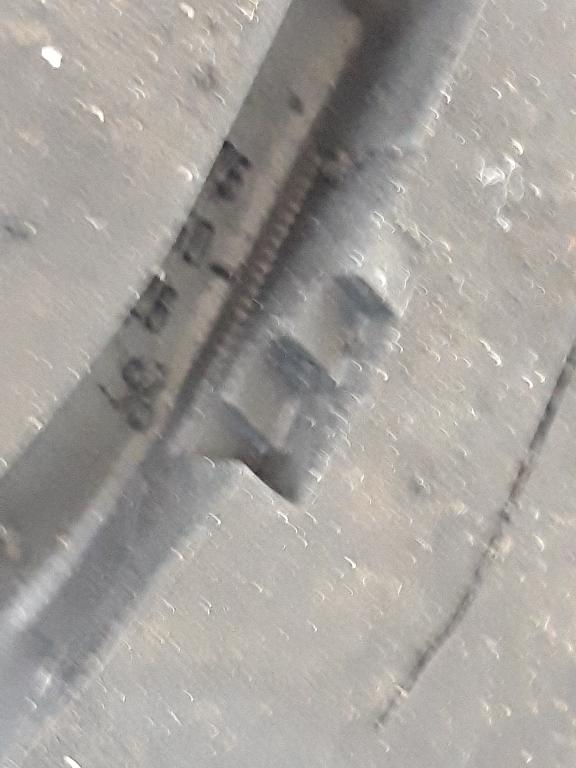temoin:75: (128, 178, 452, 533)
